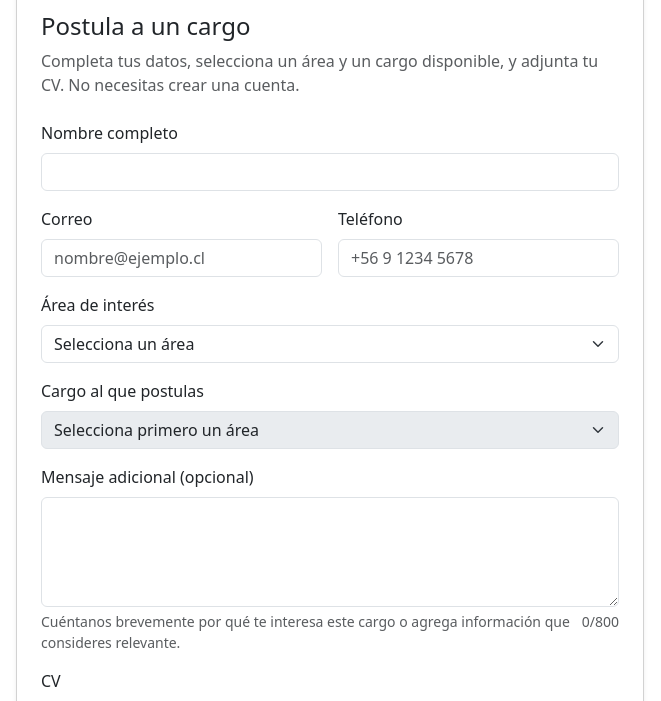
Postular (formulario público) › catálogo de cargos › muestra descripción y requisitos del cargo seleccionado
Select "Operaciones" in the dropdown labelled "Área de interés" at (330, 344), box [41,325,619,363]
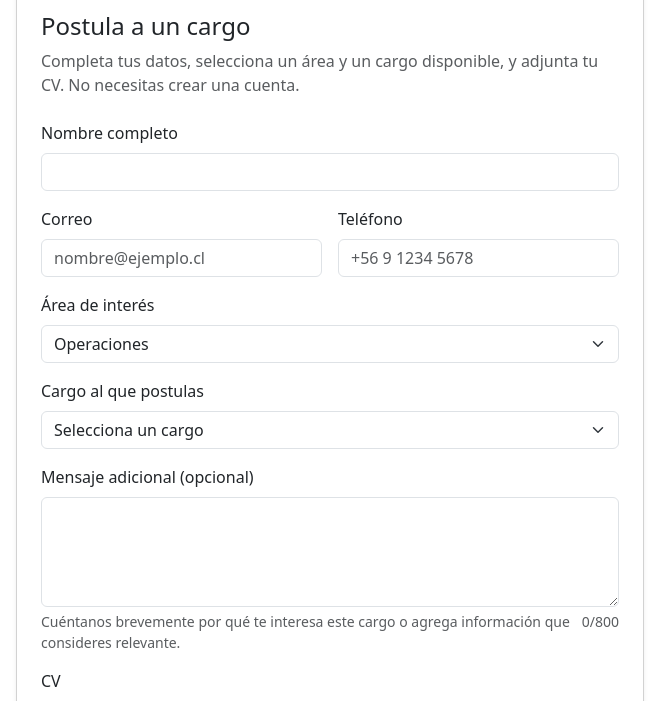
Select "Operador de Planta" in the dropdown labelled "Cargo al que postulas" at (330, 430), box [41,411,619,449]
(page scrolled)
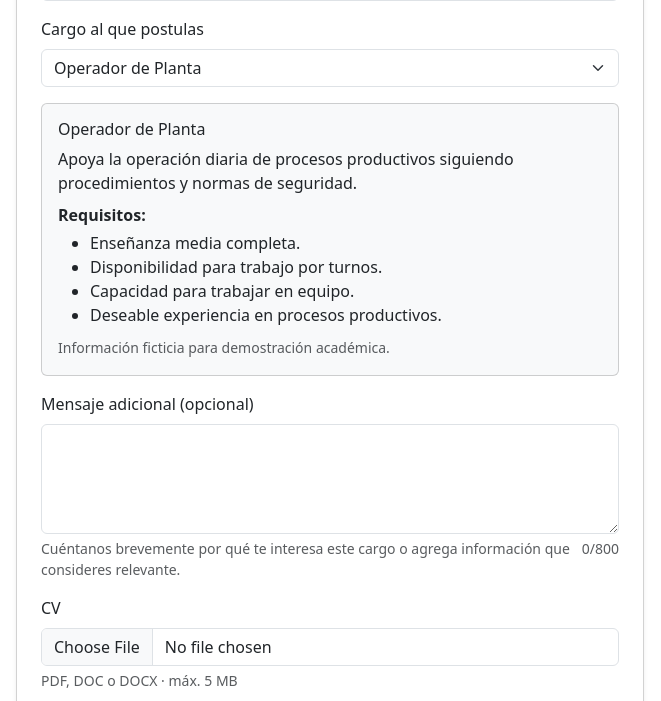
Now the heading "Operador de Planta" is shown, box [58,118,205,140]
Now the text "Apoya la operación diaria de procesos productivos" is shown, box [58,148,514,194]
Now the list item "Enseñanza media completa." is shown, box [90,232,300,254]
